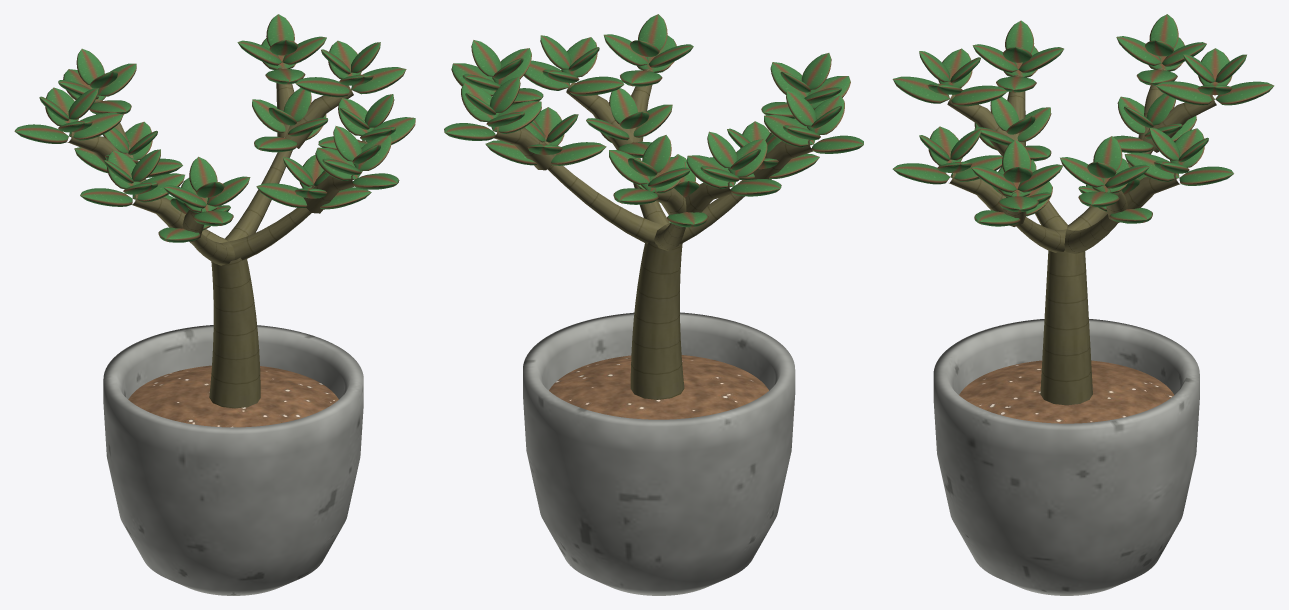
File: jade.glb
3 views of the same model, side by side, from view 1: azimuth 30°, elevation 25°; view 2: azimuth 150°, elevation 25°; view 3: azimuth 270°, elevation 25° (orthographic). The views are drawn at different scales.
Visible parts, largest first — view 1: piece-0, piece-3, piece-1, piece-2, piece-16, piece-29, piece-59, piece-17, piece-28, piece-52, piece-53, piece-39 (+23 smaller); view 2: piece-0, piece-3, piece-1, piece-2, piece-5, piece-53, piece-11, piece-65, piece-29, piece-52, piece-38, piece-10 (+23 smaller); view 3: piece-0, piece-1, piece-3, piece-2, piece-46, piece-34, piece-35, piece-70, piece-47, piece-10, piece-11, piece-20 (+28 smaller).
Boxes of the visible parts, left/top/right/bottom form: piece-0: left=103, top=325, right=363, bottom=595; piece-3: left=67, top=67, right=367, bottom=265; piece-1: left=128, top=365, right=338, bottom=427; piece-2: left=209, top=257, right=260, bottom=408; piece-16: left=351, top=67, right=406, bottom=94; piece-29: left=69, top=112, right=123, bottom=140; piece-59: left=256, top=183, right=307, bottom=207; piece-17: left=295, top=77, right=349, bottom=97; piece-28: left=14, top=124, right=68, bottom=143; piece-52: left=80, top=188, right=132, bottom=206; piece-53: left=132, top=173, right=184, bottom=202; piece-39: left=76, top=48, right=104, bottom=84; piece-0: left=523, top=312, right=795, bottom=595; piece-3: left=494, top=68, right=813, bottom=251; piece-1: left=549, top=355, right=768, bottom=419; piece-2: left=630, top=241, right=684, bottom=399; piece-5: left=551, top=142, right=606, bottom=165; piece-53: left=764, top=114, right=815, bottom=147; piece-11: left=491, top=101, right=541, bottom=133; piece-65: left=569, top=76, right=624, bottom=95; piece-29: left=686, top=155, right=735, bottom=188; piece-52: left=811, top=135, right=863, bottom=153; piece-38: left=642, top=135, right=671, bottom=172; piece-10: left=444, top=123, right=495, bottom=140; piece-0: left=933, top=319, right=1199, bottom=595; piece-1: left=959, top=360, right=1174, bottom=423; piece-3: left=947, top=68, right=1216, bottom=253; piece-2: left=1040, top=250, right=1092, bottom=405; piece-46: left=892, top=76, right=949, bottom=103; piece-34: left=1215, top=81, right=1274, bottom=105; piece-35: left=1156, top=81, right=1214, bottom=105; piece-70: left=892, top=163, right=949, bottom=184; piece-47: left=951, top=85, right=1007, bottom=106; piece-10: left=1179, top=166, right=1233, bottom=185; piece-11: left=1124, top=152, right=1179, bottom=181; piece-20: left=1093, top=136, right=1122, bottom=170.
Size of the model in its own units: 0.2617 by 0.3311 by 0.2355.
4 materials, 4 textured.
